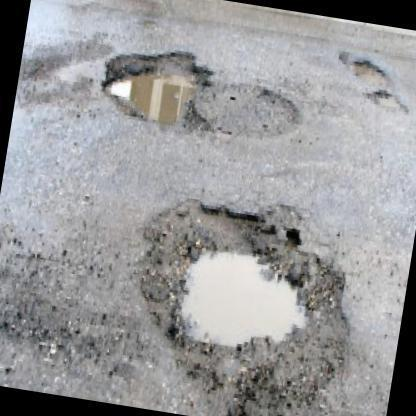pothole: (136, 193, 350, 412), (96, 45, 216, 131), (352, 56, 404, 117)
